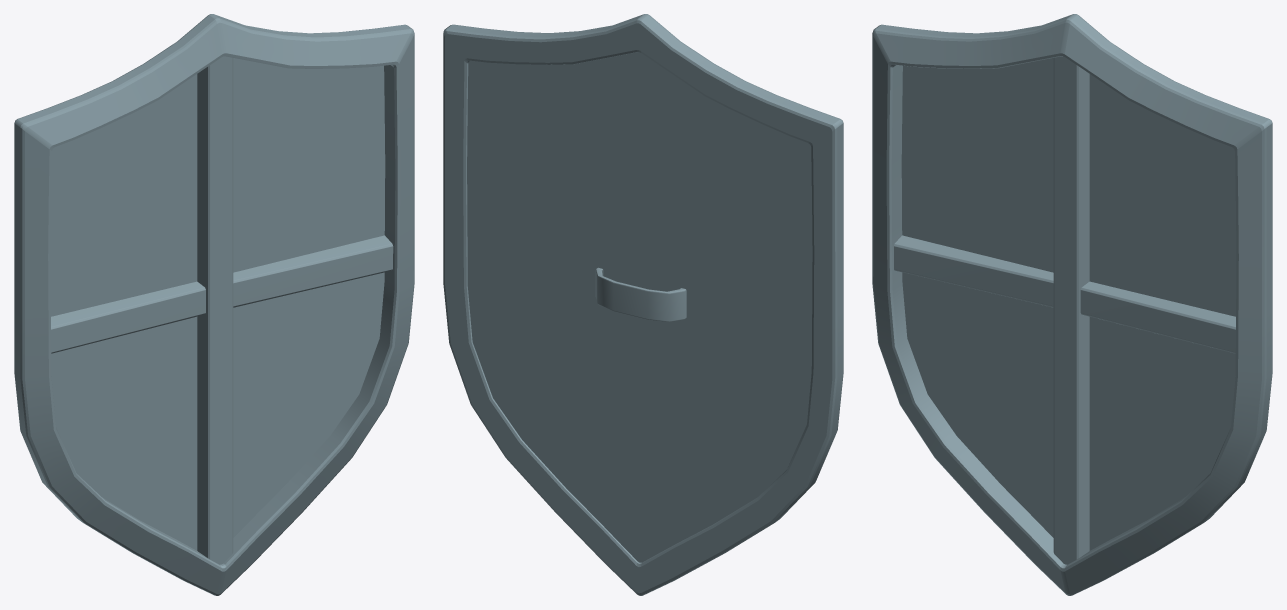
The model's file is Shield.fbx.
3 views of the same model, side by side, from view 1: azimuth 30°, elevation 25°; view 2: azimuth 150°, elevation 25°; view 3: azimuth 330°, elevation 25° (orthographic).
Parts seen in each view (by area): view 1: steel; view 2: steel; view 3: steel.
Part boxes in pixels (x1=…): steel: x1=14, y1=14, x2=414, y2=595; steel: x1=443, y1=14, x2=843, y2=595; steel: x1=872, y1=14, x2=1272, y2=595.
Bounding box in the file's own units: 616 × 864 × 67.05.
